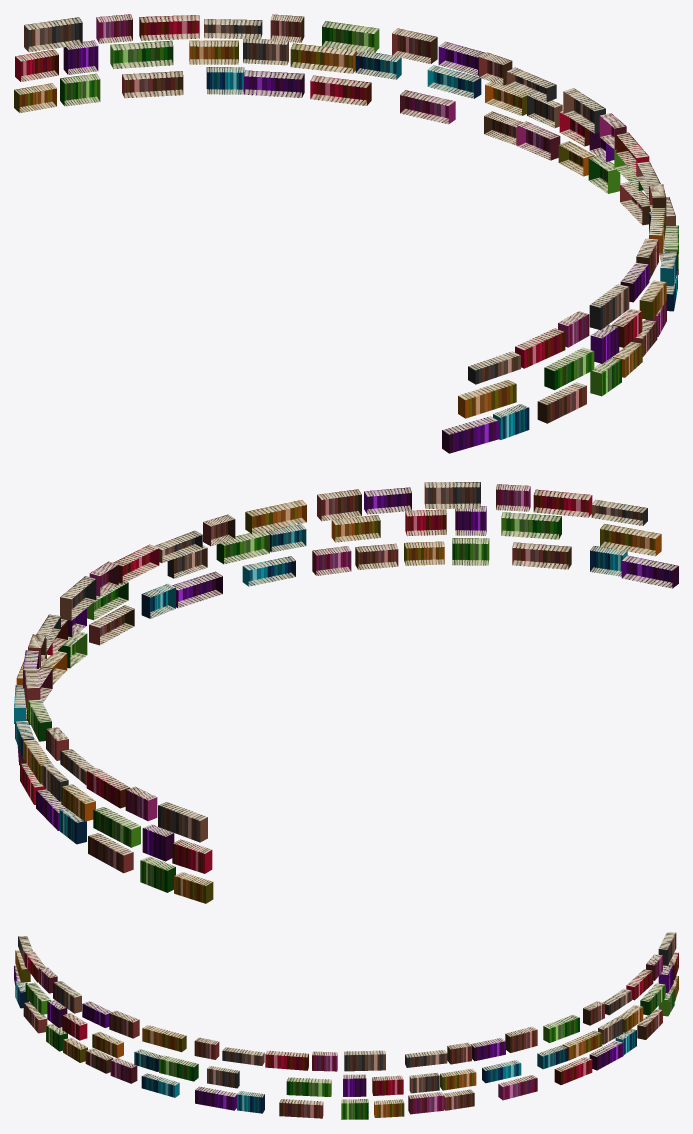
Rendered from Livres_BanBliothèque.FBX.
3 renders of one model, top to bottom at view 1: azimuth 30°, elevation 25°; view 2: azimuth 150°, elevation 25°; view 3: azimuth 270°, elevation 25°, orthographic. The views are drawn at different scales.
Parts seen in each view (by area): view 1: Box222, Box219, Box229, Box273, Box271, Box270, Box230, Box232, Box275, Box278, Box269, Box265 (+37 smaller); view 2: Box197, Box265, Box248, Box275, Box203, Box278, Box195, Box222, Box258, Box234, Box229, Box259 (+37 smaller); view 3: Box251, Box213, Box248, Box231, Box255, Box259, Box258, Box242, Box269, Box230, Box270, Box219 (+47 smaller).
Part boxes in pixels (x1,y1,x2,y2): Box222: [24, 17, 82, 52]; Box219: [290, 43, 357, 73]; Box229: [110, 40, 173, 69]; Box273: [122, 71, 183, 98]; Box271: [244, 70, 304, 97]; Box270: [310, 75, 371, 105]; Box230: [322, 21, 379, 53]; Box232: [139, 15, 199, 40]; Box275: [458, 380, 516, 418]; Box278: [442, 416, 498, 453]; Box269: [400, 90, 455, 124]; Box265: [544, 347, 594, 390]; Box197: [424, 482, 480, 508]; Box265: [501, 512, 561, 539]; Box248: [245, 500, 306, 533]; Box275: [600, 524, 661, 556]; Box203: [512, 542, 571, 569]; Box278: [621, 555, 678, 588]; Box195: [533, 489, 592, 517]; Box222: [158, 802, 207, 842]; Box258: [216, 531, 269, 564]; Box234: [317, 489, 361, 521]; Box229: [93, 807, 140, 847]; Box259: [172, 571, 222, 608]; Box251: [344, 1050, 385, 1071]; Box213: [286, 1077, 331, 1096]; Box248: [142, 1025, 186, 1052]; Box231: [279, 1099, 323, 1118]; Box255: [265, 1050, 308, 1070]; Box259: [195, 1086, 237, 1110]; Box258: [159, 1055, 198, 1081]; Box242: [408, 1092, 444, 1114]; Box269: [498, 1075, 537, 1100]; Box230: [543, 1015, 579, 1042]; Box270: [554, 1057, 592, 1084]; Box219: [562, 1030, 602, 1060].
Size of the model in its own units: 367 by 73.48 by 737.
